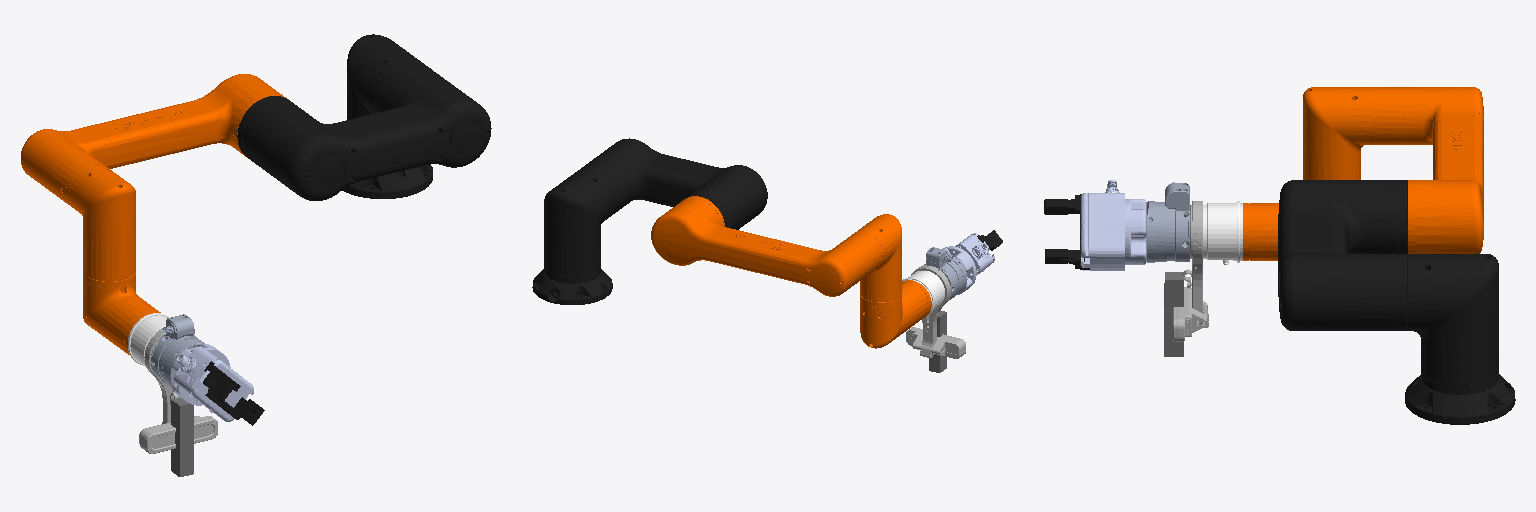
The robot description file, URDF, robot "hcr3a":
<?xml version="1.0" ?>
<!-- =================================================================================== -->
<!-- |    This document was autogenerated by xacro from hcr3a/urdf/hcr3a.xacro         | -->
<!-- |    EDITING THIS FILE BY HAND IS NOT RECOMMENDED                                 | -->
<!-- =================================================================================== -->
<robot name="hcr3a">
  <!-- link list -->
  <link name="base_link">
    <inertial>
      <origin rpy="0 0 0" xyz="7.97584139442861E-05 -0.0005270967790151 0.016153272685018"/>
      <mass value="0.353281534288237"/>
      <inertia ixx="0.000311825960207992" ixy="5.95993079747427E-08" ixz="7.44586976917485E-08" iyy="0.000322067229599284" iyz="-1.60524553044354E-06" izz="0.000552280538197162"/>
    </inertial>
    <visual>
      <origin rpy="0 0 0" xyz="0 0 0"/>
      <geometry>
        <mesh filename="meshes/visual/base_link.STL"/>
      </geometry>
      <material name="">
        <color rgba="0.156862 0.156862 0.156862 1"/>
      </material>
    </visual>
    <collision>
      <origin rpy="0 0 0" xyz="0 0 0"/>
      <geometry>
        <mesh filename="meshes/visual/base_link.STL"/>
      </geometry>
    </collision>
  </link>
  <link name="link_1">
    <inertial>
      <origin rpy="0 0 0" xyz="-0.00973376743956444 0.0753973498277641 -6.52426151931743E-08"/>
      <mass value="1.07573995983057"/>
      &gt;
      
      <inertia ixx="0.00167952991787637" ixy="0.000446312968033745" ixz="-8.8686874053242E-09" iyy="0.00138918799663758" iyz="1.25971797230156E-08" izz="0.00198146807289238"/>
    </inertial>
    <visual>
      <origin rpy="0 0 0" xyz="0 0 0"/>
      <geometry>
        <mesh filename="meshes/visual/Link_1.STL"/>
      </geometry>
      <material name="">
        <color rgba="0.156862 0.156862 0.156862 1"/>
      </material>
    </visual>
    <collision>
      <origin rpy="0 0 0" xyz="0 0 0"/>
      <geometry>
        <mesh filename="meshes/visual/Link_1.STL"/>
      </geometry>
    </collision>
  </link>
  <link name="link_2">
    <inertial>
      <origin rpy="0 0 0" xyz="-0.0855707798894386 0.1005 -1.08246744900953E-15"/>
      <mass value="2.30109786711967"/>
      <inertia ixx="0.00385493593749246" ixy="-1.82430106542393E-19" ixz="-4.01274842251468E-20" iyy="0.00346751499112964" iyz="-3.77073081813298E-09" izz="0.00522849946532153"/>
    </inertial>
    <visual>
      <origin rpy="0 0 0" xyz="0 0 0"/>
      <geometry>
        <mesh filename="meshes/visual/Link_2.STL"/>
      </geometry>
      <material name="">
        <color rgba="0.156862 0.156862 0.156862 1"/>
      </material>
    </visual>
    <collision>
      <origin rpy="0 0 0" xyz="0 0 0"/>
      <geometry>
        <mesh filename="meshes/visual/Link_2.STL"/>
      </geometry>
    </collision>
  </link>
  <link name="link_3">
    <inertial>
      <origin rpy="0 0 0" xyz="0.0396313745393282 0.129914382263815 -1.90387525073471E-05"/>
      <mass value="1.57952178341914"/>
      <inertia ixx="0.00641937210550655" ixy="-0.000194292093001292" ixz="-3.85501364092845E-07" iyy="0.00139320262270192" iyz="3.56115068980291E-07" izz="0.00680956919248161"/>
    </inertial>
    <visual>
      <origin rpy="0 0 0" xyz="0 0 0"/>
      <geometry>
        <mesh filename="meshes/visual/Link_3.STL"/>
      </geometry>
      <material name="">
        <color rgba="1 0.45490196 0 1"/>
      </material>
    </visual>
    <collision>
      <origin rpy="0 0 0" xyz="0 0 0"/>
      <geometry>
        <mesh filename="meshes/visual/Link_3.STL"/>
      </geometry>
    </collision>
  </link>
  <link name="link_4">
    <inertial>
      <origin rpy="0 0 0" xyz="-0.0407591947138571 0.0332665688753804 -4.68821496961702E-05"/>
      <mass value="0.519192982071818"/>
      <inertia ixx="0.000662849704534044" ixy="0.000118678806656831" ixz="-4.2698423653336E-08" iyy="0.000330698654885533" iyz="1.35116542532741E-07" izz="0.000701939896608463"/>
    </inertial>
    <visual>
      <origin rpy="0 0 0" xyz="0 0 0"/>
      <geometry>
        <mesh filename="meshes/visual/Link_4.STL"/>
      </geometry>
      <material name="">
        <color rgba="1 0.45490196 0 1"/>
      </material>
    </visual>
    <collision>
      <origin rpy="0 0 0" xyz="0 0 0"/>
      <geometry>
        <mesh filename="meshes/visual/Link_4.STL"/>
      </geometry>
    </collision>
  </link>
  <link name="link_5">
    <inertial>
      <origin rpy="0 0 0" xyz="-0.0332658773647602 0.0405153786325931 -3.79420857973267E-05"/>
      <mass value="0.519192981344028"/>
      <inertia ixx="0.000330699145085119" ixy="0.000118678803018896" ixz="-4.26276817861785E-07" iyy="0.000662849654535719" iyz="1.38090206017222E-07" izz="0.000701939452850313"/>
    </inertial>
    <visual>
      <origin rpy="0 0 0" xyz="0 0 0"/>
      <geometry>
        <mesh filename="meshes/visual/Link_5.STL"/>
      </geometry>
      <material name="">
        <color rgba="1 0.45490196 0 1"/>
      </material>
    </visual>
    <collision>
      <origin rpy="0 0 0" xyz="0 0 0"/>
      <geometry>
        <mesh filename="meshes/visual/Link_5.STL"/>
      </geometry>
    </collision>
  </link>
  <link name="link_6">
    <inertial>
      <origin rpy="0 0 0" xyz="-0.0230956246285519 -0.000703527307058902 -1.56986144597138E-05"/>
      <mass value="0.161414628250816"/>
      <inertia ixx="8.87742212205632E-05" ixy="-5.44402856507585E-07" ixz="2.59468601004868E-08" iyy="7.68462823592339E-05" iyz="-2.54107028048973E-08" izz="7.22408194397564E-05"/>
    </inertial>
    <visual>
      <origin rpy="0 0 0" xyz="0 0 0"/>
      <geometry>
        <mesh filename="meshes/visual/Link_6.STL"/>
      </geometry>
      <material name="">
        <color rgba="1 1 1 1"/>
      </material>
    </visual>
    <collision>
      <origin rpy="0 0 0" xyz="0 0 0"/>
      <geometry>
        <mesh filename="meshes/visual/Link_6.STL"/>
      </geometry>
    </collision>
  </link>
  <link name="camera_Link">
    <inertial>
      <origin rpy="0 0 0" xyz="-0.00145255788698756 0.0190207856112553 0.0394969528364233"/>
      <mass value="0.115780246924644"/>
      <inertia ixx="6.17861909548366E-05" ixy="3.92852944651867E-07" ixz="6.39296702646322E-08" iyy="0.000113997483951414" iyz="1.22796451131166E-06" izz="5.9098576983967E-05"/>
    </inertial>
    <visual>
      <origin rpy="0 0 0" xyz="0 0 0"/>
      <geometry>
        <mesh filename="meshes/visual/Camera_Link.STL"/>
      </geometry>
      <material name="">
        <color rgba="0.752941176470588 0.752941176470588 0.752941176470588 1"/>
      </material>
    </visual>
    <collision>
      <origin rpy="0 0 0" xyz="0 0 0"/>
      <geometry>
        <mesh filename="meshes/visual/Camera_Link.STL"/>
      </geometry>
    </collision>
  </link>
  <link name="forcesensor_Link">
    <inertial>
      <origin rpy="0 0 0" xyz="0.000112355555684951 0.00494375727284821 0.0198632892707566"/>
      <mass value="0.145342414106485"/>
      <inertia ixx="4.82306275157872E-05" ixy="1.00172687846251E-07" ixz="-1.06639561733995E-07" iyy="4.58974728669756E-05" iyz="-7.8069867418856E-07" izz="8.9584731172201E-05"/>
    </inertial>
    <visual>
      <origin rpy="0 0 0" xyz="0 0 0"/>
      <geometry>
        <mesh filename="meshes/visual/Forcesensor_Link.STL"/>
      </geometry>
      <material name="">
        <color rgba="0.666666666666667 0.698039215686274 0.768627450980392 1"/>
      </material>
    </visual>
    <collision>
      <origin rpy="0 0 0" xyz="0 0 0"/>
      <geometry>
        <mesh filename="meshes/visual/Forcesensor_Link.STL"/>
      </geometry>
    </collision>
  </link>
  <link name="effector_Link">
    <inertial>
      <origin rpy="0 0 0" xyz="9.44126766155851E-07 -0.0946618161679736 -0.0020058691232237"/>
      <mass value="0.0864098631345287"/>
      <inertia ixx="3.28181582474326E-05" ixy="4.52728015181997E-12" ixz="-2.87262001329397E-11" iyy="5.6517590339559E-05" iyz="-9.74898143950684E-09" izz="3.28212657907739E-05"/>
    </inertial>
    <visual>
      <origin rpy="0 0 0" xyz="0 0 0"/>
      <geometry>
        <mesh filename="meshes/visual/Effector_Link.STL"/>
      </geometry>
      <material name="">
        <color rgba="0.792156862745098 0.819607843137255 0.933333333333333 1"/>
      </material>
    </visual>
    <collision>
      <origin rpy="0 0 0" xyz="0 0 0"/>
      <geometry>
        <mesh filename="meshes/visual/Effector_Link.STL"/>
      </geometry>
    </collision>
  </link>
  <link name="finger1_Link">
    <inertial>
      <origin rpy="0 0 0" xyz="-0.005591832780106 0.0123671607518947 -0.0226798061503552"/>
      <mass value="0.0168276037516424"/>
      <inertia ixx="3.34661264471269E-06" ixy="-1.43148971336319E-09" ixz="2.0551380109645E-07" iyy="2.37045180144871E-06" iyz="-4.49477747173004E-08" izz="2.34087918164319E-06"/>
    </inertial>
    <visual>
      <origin rpy="0 0 0" xyz="0 0 0"/>
      <geometry>
        <mesh filename="meshes/visual/Finger1_Link.STL"/>
      </geometry>
      <material name="">
        <color rgba="0.156862 0.156862 0.156862 1"/>
      </material>
    </visual>
    <collision>
      <origin rpy="0 0 0" xyz="0 0 0"/>
      <geometry>
        <mesh filename="meshes/visual/Finger1_Link.STL"/>
      </geometry>
    </collision>
  </link>
  <link name="finger2_Link">
    <inertial>
      <origin rpy="0 0 0" xyz="0.00559183278007369 -0.0123998933272176 -0.0226798061503521"/>
      <mass value="0.016827603751646"/>
      <inertia ixx="3.34661264471272E-06" ixy="-1.43148971334095E-09" ixz="-2.05513801096511E-07" iyy="2.37045180144899E-06" iyz="4.49477747173021E-08" izz="2.34087918164347E-06"/>
    </inertial>
    <visual>
      <origin rpy="0 0 0" xyz="0 0 0"/>
      <geometry>
        <mesh filename="meshes/visual/Finger2_Link.STL"/>
      </geometry>
      <material name="">
        <color rgba="0.156862 0.156862 0.156862 1"/>
      </material>
    </visual>
    <collision>
      <origin rpy="0 0 0" xyz="0 0 0"/>
      <geometry>
        <mesh filename="meshes/visual/Finger2_Link.STL"/>
      </geometry>
    </collision>
  </link>
  <!-- end of link list -->
  <joint name="joint_1" type="revolute">
    <origin rpy="1.5708 0 1.5708" xyz="0 0 0.03769"/>
    <parent link="base_link"/>
    <child link="link_1"/>
    <axis xyz="0 1 0"/>
    <limit effort="150.0" lower="-6.2832" upper="6.2832" velocity="3.1416"/>
    <dynamics damping="0" friction="0"/>
  </joint>
  <joint name="joint_2" type="revolute">
    <origin rpy="-1.5708 0 0" xyz="-0.06 0.10091 0"/>
    <parent link="link_1"/>
    <child link="link_2"/>
    <axis xyz="-1 0 0"/>
    <limit effort="150.0" lower="-6.2832" upper="6.2832" velocity="3.1416"/>
    <dynamics damping="0" friction="0"/>
  </joint>
  <joint name="joint_3" type="revolute">
    <origin rpy="0 0 0" xyz="0 0.201 0"/>
    <parent link="link_2"/>
    <child link="link_3"/>
    <axis xyz="-1 0 0"/>
    <limit effort="150.0" lower="-2.7925" upper="2.7925" velocity="3.1416"/>
    <dynamics damping="0" friction="0"/>
  </joint>
  <joint name="joint_4" type="revolute">
    <origin rpy="-1.5708 0 0" xyz="-0.043643 0.2815 -0.00013246"/>
    <parent link="link_3"/>
    <child link="link_4"/>
    <axis xyz="-1 0 0"/>
    <limit effort="150." lower="-6.2832" upper="6.2832" velocity="6.2832"/>
    <dynamics damping="0" friction="0"/>
  </joint>
  <joint name="joint_5" type="revolute">
    <origin rpy="0 0 0" xyz="-0.044744 0.103 0"/>
    <parent link="link_4"/>
    <child link="link_5"/>
    <axis xyz="0 1 0"/>
    <limit effort="150.0" lower="-6.2832" upper="6.2832" velocity="6.2832"/>
    <dynamics damping="0" friction="0"/>
  </joint>
  <joint name="joint_6" type="revolute">
    <origin rpy="0 0 0" xyz="-0.10284 0.0445 -0.00011784"/>
    <parent link="link_5"/>
    <child link="link_6"/>
    <axis xyz="-1 0 0"/>
    <limit effort="150.0" lower="-3.146" upper="3.146" velocity="6.2832"/>
    <dynamics damping="0" friction="0"/>
  </joint>
  <joint name="camera" type="fixed">
    <origin rpy="2.939 1.5651 1.3693" xyz="-0.078661 0.105 -0.00053185"/>
    <parent link="link_6"/>
    <child link="camera_Link"/>
    <axis xyz="0 0 0"/>
  </joint>
  fixed
  
  <joint name="forcesensor" type="fixed">
    <origin rpy="1.5708 0 0" xyz="-0.0010308 0.01738 0.10501"/>
    <parent link="camera_Link"/>
    <child link="forcesensor_Link"/>
    <axis xyz="1 0 0"/>
    <limit effort="5000.0" lower="-0.0" upper="0.0" velocity="0.01"/>
    <dynamics damping="0" friction="0"/>
  </joint>
  <joint name="gripper" type="fixed">
    <origin rpy="1.5716 -0.00082179 0.79973" xyz="0.001393 -0.0015347 0.158"/>
    <parent link="forcesensor_Link"/>
    <child link="effector_Link"/>
    <axis xyz="0 0 0"/>
  </joint>
  <joint name="finger1" type="prismatic">
    <origin rpy="-1.5708 0 -3.1416" xyz="0 -0.0435 -0.014559"/>
    <parent link="effector_Link"/>
    <child link="finger1_Link"/>
    <axis xyz="0 -1 0"/>
    <limit effort="150.0" lower="-0.1" upper="0.03" velocity="1000.0"/>
    <dynamics damping="0" friction="0"/>
  </joint>
  <joint name="finger2" type="prismatic">
    <origin rpy="-1.5708 0 -3.1416" xyz="0 -0.0435 0.01"/>
    <parent link="effector_Link"/>
    <child link="finger2_Link"/>
    <axis xyz="0 -1 0"/>
    <limit effort="150.0" lower="-0.03" upper="0.1" velocity="1000.0"/>
    <dynamics damping="0" friction="0"/>
    <!-- mimic joint="${prefix}finger1" multiplier="-1" offset="0" /-->
  </joint>
  <!-- end of joint list -->
  <!-- <link name="${prefix}base" />
    <joint name="${prefix}base_link-base" type="fixed">
      <origin xyz="0 0 0.001" rpy="0 0 0"/>
      <parent link="${prefix}base_link"/>
      <child link="${prefix}base"/>
    </joint> -->
  <!-- ROS-Industrial 'flange' frame- attachment point for EEF models -->
  <link name="flange"/>
  <joint name="link_6-flange" type="fixed">
    <origin rpy="0 0 0" xyz="0 0 0"/>
    <parent link="link_6"/>
    <child link="flange"/>
  </joint>
  <!-- ROS-Industrial 'tool0' frame- all-zeros tool frame -->
  <link name="tool0"/>
  <joint name="effector_Link-tool0" type="fixed">
    <origin rpy="0 0 0" xyz="0 0 0"/>
    <parent link="effector_Link"/>
    <child link="tool0"/>
  </joint>
  <!-- OctoMap depth link -->
  <!-- link name="camera_depth_optical_frame" />
    <joint name="{prefix}camera_depth_optical_link" type="fixed">
      <origin xyz="0 0.0095 0.011" rpy="${M_PI} 0 -${M_PI/2}"/>
      <parent link="${prefix}camera_Link" />
      <child link="camera_depth_optical_frame" />
    </joint -->
  <ros2_control name="HCRInterfaceHardware" type="system">
    <hardware>
      <plugin>mock_components/GenericSystem</plugin>
      <param name="mock_sensor_commands">false</param>
      <param name="state_following_offset">0.0</param>
    </hardware>
    <joint name="joint_1">
      <command_interface name="position">
        <param name="min">-6.2832</param>
        <param name="max">6.2832</param>
      </command_interface>
      <!--command_interface name="velocity"/>
          <param name="min">-3.1416</param>
          <param name="max">3.1416</param-->
      <state_interface name="position">
        <param name="initial_value">0</param>
      </state_interface>
      <!--state_interface name="velocity"/-->
    </joint>
    <joint name="joint_2">
      <command_interface name="position">
        <param name="min">-6.2832</param>
        <param name="max">6.2832</param>
      </command_interface>
      <!--command_interface name="velocity"/>
          <param name="min">-3.1416</param>
          <param name="max">3.1416</param-->
      <state_interface name="position">
        <param name="initial_value">0</param>
      </state_interface>
      <!--state_interface name="velocity"/-->
    </joint>
    <joint name="joint_3">
      <command_interface name="position">
        <param name="min">-2.7925</param>
        <param name="max">2.7925</param>
      </command_interface>
      <!--command_interface name="velocity"/>
          <param name="min">-3.1416</param>
          <param name="max">3.1416</param-->
      <state_interface name="position">
        <param name="initial_value">0</param>
      </state_interface>
      <!--state_interface name="velocity"/-->
    </joint>
    <joint name="joint_4">
      <command_interface name="position">
        <param name="min">-6.2832</param>
        <param name="max">6.2832</param>
      </command_interface>
      <!--command_interface name="velocity"/>
          <param name="min">-6.2832</param>
          <param name="max">6.2832</param-->
      <state_interface name="position">
        <param name="initial_value">0.0</param>
      </state_interface>
      <!--state_interface name="velocity"/-->
    </joint>
    <joint name="joint_5">
      <command_interface name="position">
        <param name="min">-6.2832</param>
        <param name="max">6.2832</param>
      </command_interface>
      <!--command_interface name="velocity"/>
          <param name="min">-6.2832</param>
          <param name="max">6.2832</param-->
      <state_interface name="position">
        <param name="initial_value">0.0</param>
      </state_interface>
      <!--state_interface name="velocity"/-->
    </joint>
    <joint name="joint_6">
      <command_interface name="position">
        <param name="min">-1.5708</param>
        <param name="max">1.5708</param>
      </command_interface>
      <!--command_interface name="velocity"/>
          <param name="min">-6.2832</param>
          <param name="max">6.2832</param-->
      <state_interface name="position">
        <param name="initial_value">0.0</param>
      </state_interface>
      <!--state_interface name="velocity"/-->
    </joint>
    <gpio name="IOs">
      <command_interface name="D0"/>
      <state_interface name="D0"/>
      <command_interface name="D1"/>
      <state_interface name="D1"/>
      <command_interface name="D2"/>
      <state_interface name="D2"/>
      <command_interface name="D3"/>
      <state_interface name="D3"/>
      <command_interface name="D4"/>
      <state_interface name="D4"/>
      <command_interface name="D5"/>
      <state_interface name="D5"/>
      <command_interface name="D6"/>
      <state_interface name="D6"/>
      <command_interface name="D7"/>
      <state_interface name="D7"/>
    </gpio>
  </ros2_control>
  <ros2_control name="HCRInterfaceGripper" type="system">
    <hardware>
      <plugin>mock_components/GenericSystem</plugin>
    </hardware>
    <joint name="finger1">
      <command_interface name="position"/>
      <state_interface name="position">
        <param name="initial_value">0.0</param>
        <param name="min">0</param>
        <param name="max">0.0255</param>
      </state_interface>
      <state_interface name="velocity">
        <param name="max">0.0001</param>
      </state_interface>
    </joint>
    <!-- joint name="${prefix}finger2">
        <param name="mimic">${prefix}finger1</param>
        <param name="multiplier">-1</param>
        <command_interface name="position" />
        <state_interface name="position">
          <param name="initial_value">0.0</param>
          <param name="min">-0.0255</param>
          <param name="max">0</param>
        </state_interface>
        <state_interface name="velocity">
          <param name="max">0.0001</param>
        </state_interface>
      </joint -->
  </ros2_control>
  <material name="aluminum">
    <color rgba="0.5 0.5 0.5 1"/>
  </material>
  <material name="plastic">
    <color rgba="0.1 0.1 0.1 1"/>
  </material>
  <!-- camera body, with origin at bottom screw mount -->
  <joint name="camera_joint" type="fixed">
    <origin rpy="3.141592653589793 0 -1.5707963267948966" xyz="0 0.0095 0.011"/>
    <parent link="camera_Link"/>
    <child link="camera_bottom_screw_frame"/>
  </joint>
  <link name="camera_bottom_screw_frame"/>
  <joint name="camera_link_joint" type="fixed">
    <origin rpy="0 0 0" xyz="0 0.02 0.0115"/>
    <parent link="camera_bottom_screw_frame"/>
    <child link="camera_link"/>
  </joint>
  <link name="camera_link">
    <visual>
      <origin rpy="1.5707963267948966 0 1.5707963267948966" xyz="0.00987 -0.02 0"/>
      <geometry>
        <box size="0.02005 0.099 0.023"/>
      </geometry>
      <material name="aluminum"/>
    </visual>
    <collision>
      <origin rpy="0 0 0" xyz="0 -0.02 0"/>
      <geometry>
        <box size="0.02005 0.099 0.023"/>
      </geometry>
    </collision>
    <inertial>
      <mass value="0.072"/>
      <!-- The following are not reliable values, and should not be used for modeling -->
      <origin xyz="0 0 0"/>
      <inertia ixx="0.003881243" ixy="0.0" ixz="0.0" iyy="0.000498940" iyz="0.0" izz="0.003879257"/>
    </inertial>
  </link>
</robot>

--- Facts derived from the render (not from the file) ---
The picture shows the robot from 3 angles, left to right: view 1: azimuth 30°, elevation 25°; view 2: azimuth 150°, elevation 25°; view 3: azimuth 270°, elevation 25°; orthographic projection.
Model hcr3a with 16 links and 15 joints (6 revolute, 2 prismatic, 7 fixed), rooted at base_link, posed all joints at 0.
Visible links, largest first — view 1: link_2, link_3, link_4, link_1, link_5, effector_Link, camera_Link, forcesensor_Link, base_link, camera_link, link_6, finger1_Link (+1 smaller); view 2: link_3, link_2, link_1, link_5, link_4, camera_Link, base_link, effector_Link, forcesensor_Link, link_6; view 3: link_2, link_3, link_1, link_4, effector_Link, base_link, forcesensor_Link, camera_Link, link_6, link_5, camera_link, finger1_Link (+1 smaller).
Link boxes in pixels (<box>): link_2: <box>237,62,491,200</box>; link_3: <box>21,74,288,207</box>; link_4: <box>69,164,135,286</box>; link_1: <box>347,34,423,119</box>; link_5: <box>83,278,160,354</box>; effector_Link: <box>172,344,253,421</box>; camera_Link: <box>139,328,217,453</box>; forcesensor_Link: <box>151,314,204,388</box>; base_link: <box>342,164,432,198</box>; camera_link: <box>171,398,193,476</box>; link_6: <box>128,313,169,367</box>; finger1_Link: <box>203,361,240,401</box>; link_3: <box>651,196,885,296</box>; link_2: <box>578,138,767,229</box>; link_1: <box>544,170,615,283</box>; link_5: <box>860,280,931,348</box>; link_4: <box>858,214,901,306</box>; camera_Link: <box>906,265,965,358</box>; base_link: <box>532,269,612,304</box>; effector_Link: <box>943,233,994,294</box>; forcesensor_Link: <box>923,247,967,299</box>; link_6: <box>902,271,944,318</box>; link_2: <box>1278,180,1407,330</box>; link_3: <box>1370,87,1483,253</box>; link_1: <box>1408,254,1498,394</box>; link_4: <box>1303,87,1369,179</box>; effector_Link: <box>1081,180,1146,270</box>; base_link: <box>1405,374,1515,424</box>; forcesensor_Link: <box>1147,182,1189,262</box>; camera_Link: <box>1173,201,1208,341</box>; link_6: <box>1203,201,1242,264</box>; link_5: <box>1243,203,1278,260</box>; camera_link: <box>1164,272,1183,356</box>; finger1_Link: <box>1044,194,1081,239</box>.
Bounding box of the posed robot: 0.5979 × 0.5444 × 0.3477 m (x, y, z).
12 mesh visuals loaded from 12 distinct referenced files (12 binary STL).
